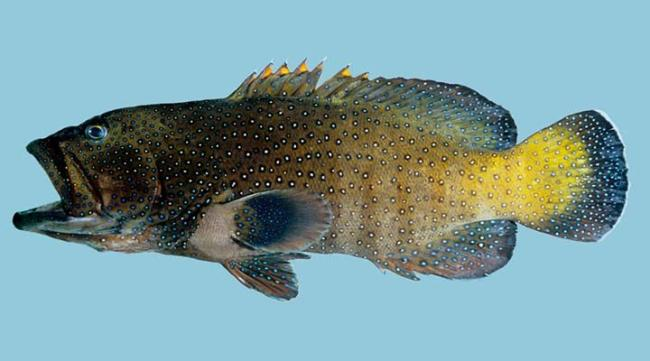fish: (13, 57, 628, 301)
